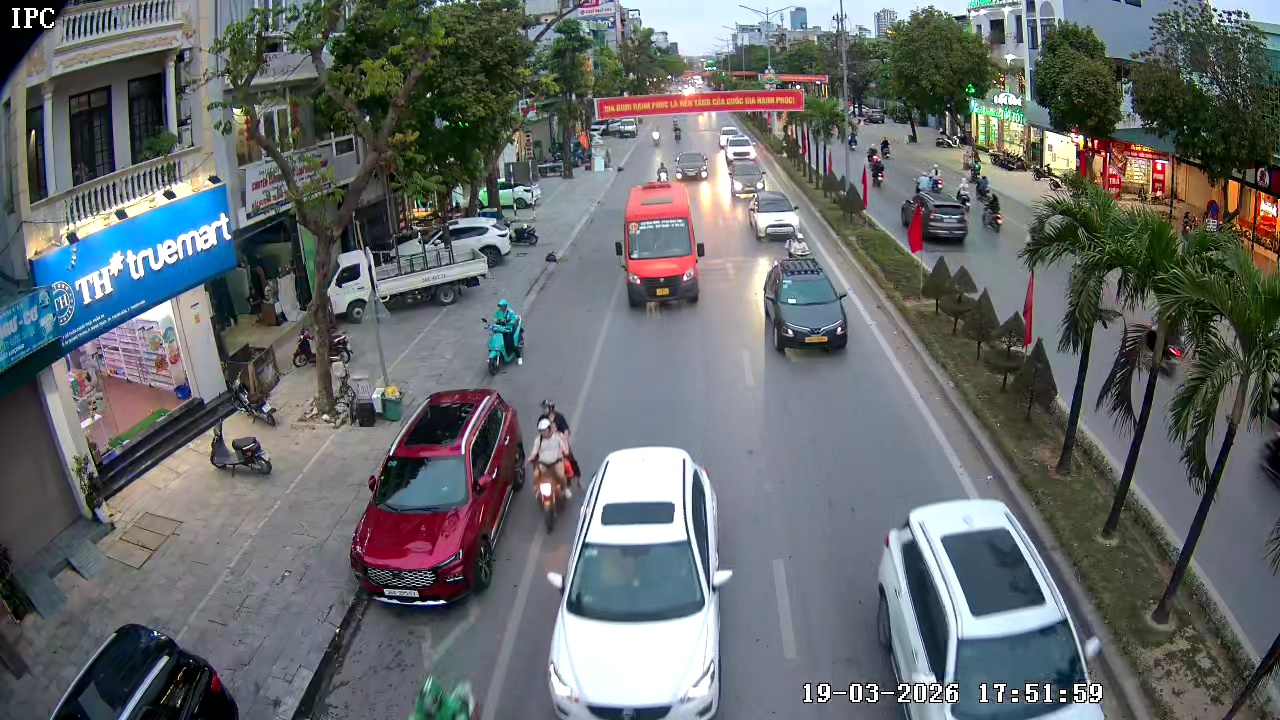car: (866, 495, 1108, 719), (544, 444, 732, 719), (348, 387, 527, 605), (46, 620, 240, 719), (763, 249, 850, 357), (616, 212, 706, 310), (748, 188, 802, 243), (918, 190, 972, 244), (732, 157, 767, 195), (723, 132, 757, 163), (676, 151, 708, 180)
motorbike: (0, 536, 41, 719), (527, 411, 581, 532), (209, 407, 276, 477), (481, 297, 527, 376), (980, 185, 1005, 234)
pedestrian: (870, 143, 890, 189)
truck: (616, 187, 704, 309)
